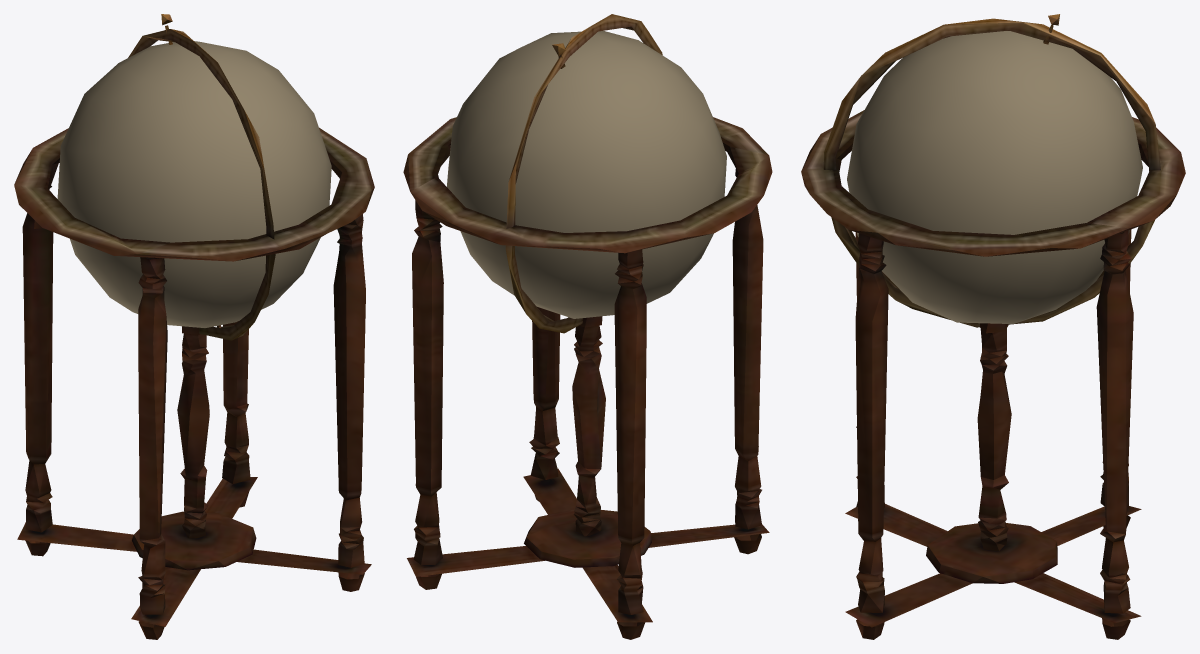
The model's file is globe-floor.lod1.glb.
3 views of the same model, side by side, from view 1: azimuth 30°, elevation 25°; view 2: azimuth 150°, elevation 25°; view 3: azimuth 270°, elevation 25° (orthographic). The views are drawn at different scales.
Parts seen in each view (by area): view 1: globe-floor; view 2: globe-floor; view 3: globe-floor.
Boxes of the visible parts, box(x1,y1,x2,y2) form: globe-floor: box(14, 14, 374, 639); globe-floor: box(403, 14, 772, 639); globe-floor: box(801, 14, 1185, 639).
Bounding box in the file's own units: 0.641 × 1.05 × 0.6414.
Materials: 2 (2 with a texture image).
